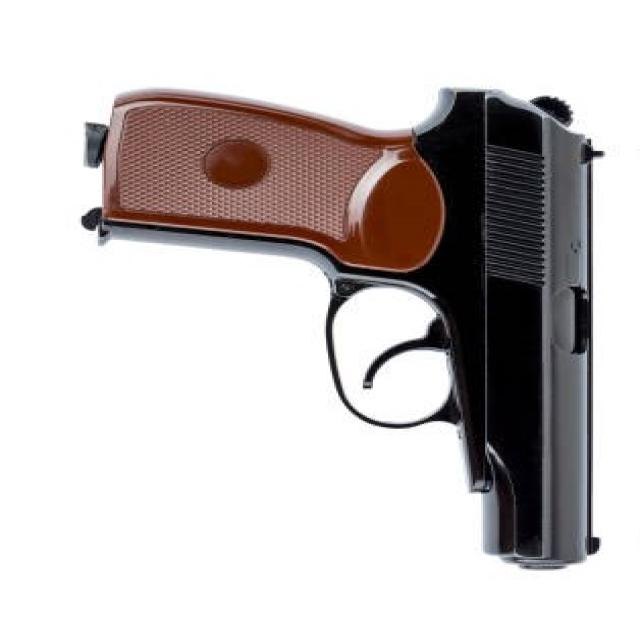pistol: (59, 74, 617, 577)
